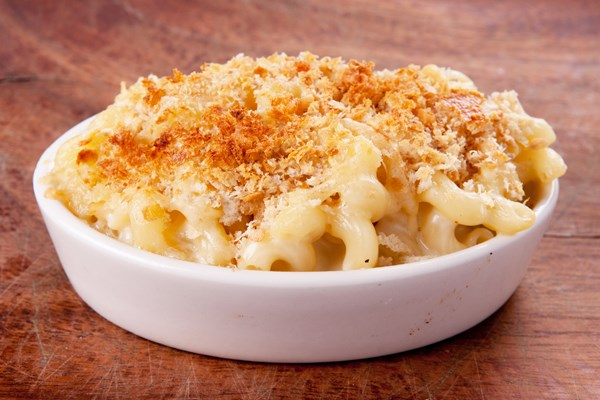macncheese: (27, 51, 519, 320)
